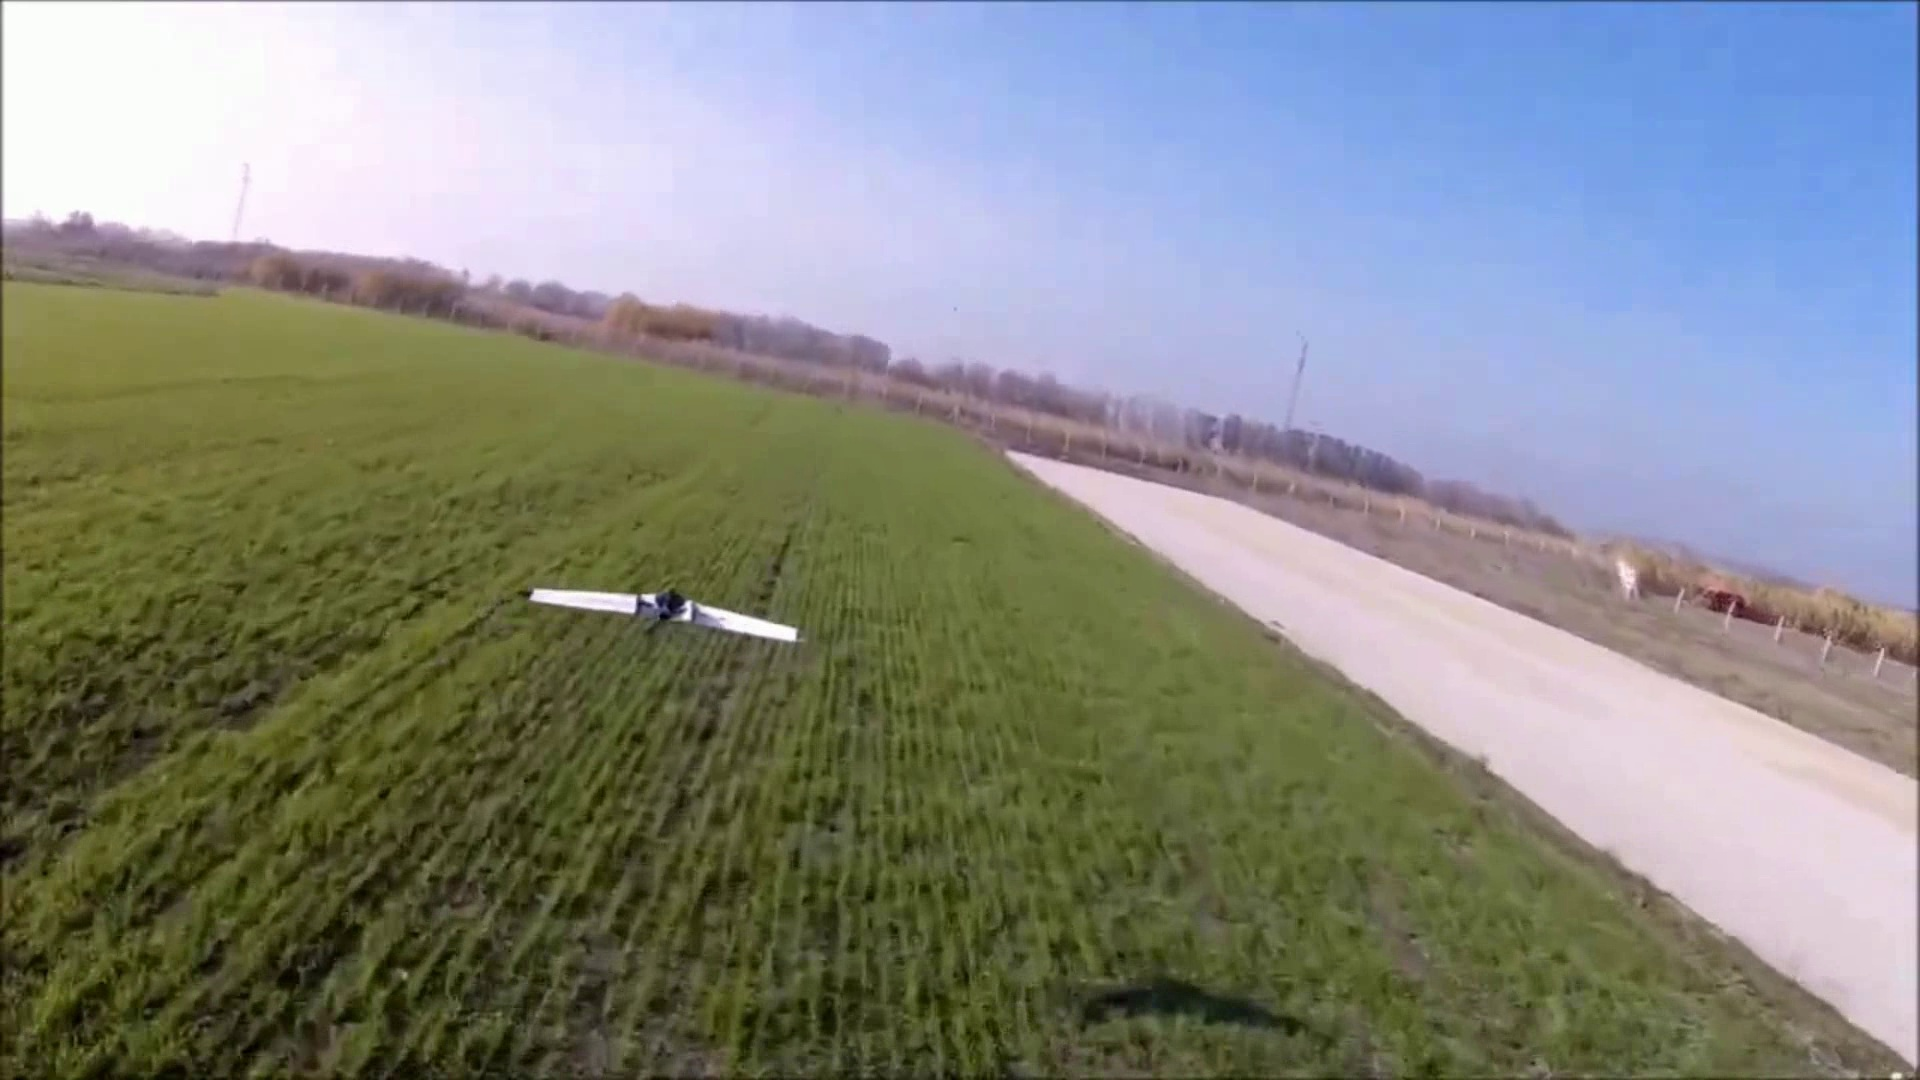airplane: (528, 583, 801, 650)
